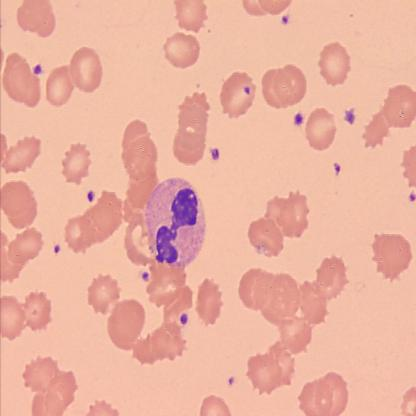Segmented neutrophil: (143, 174, 209, 272)
